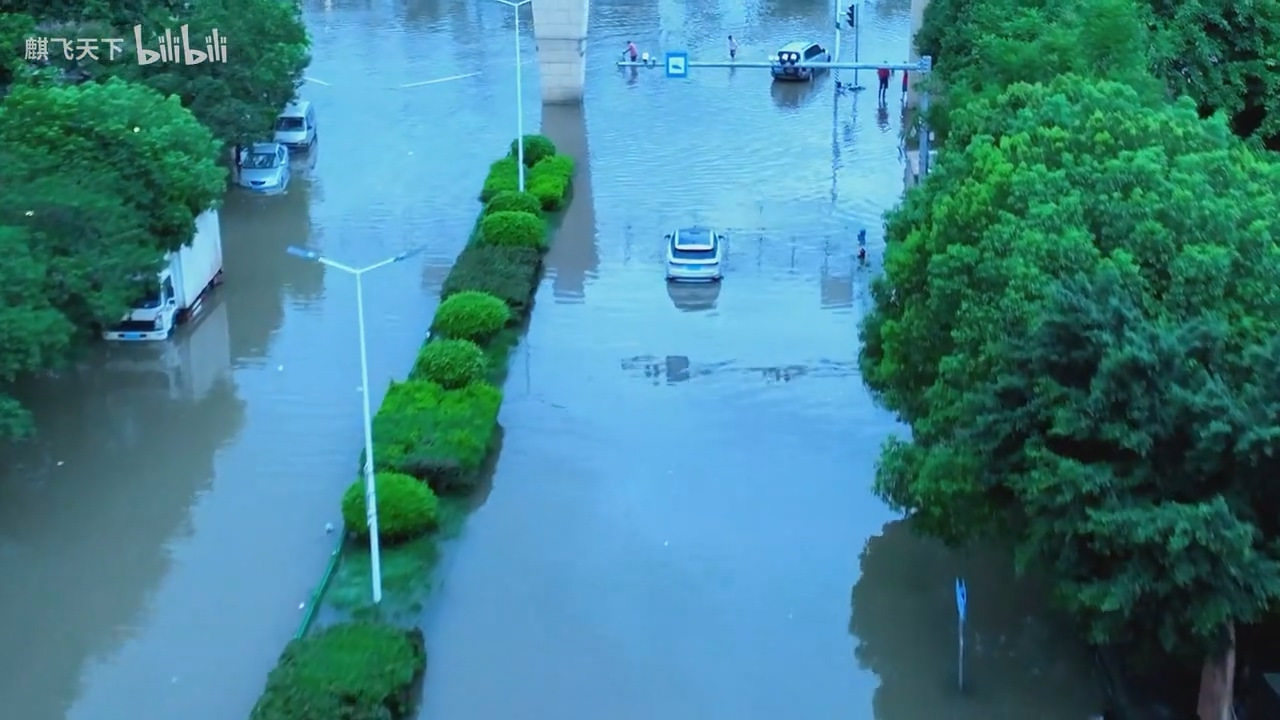puddle: (532, 190, 927, 720), (84, 173, 409, 712)
